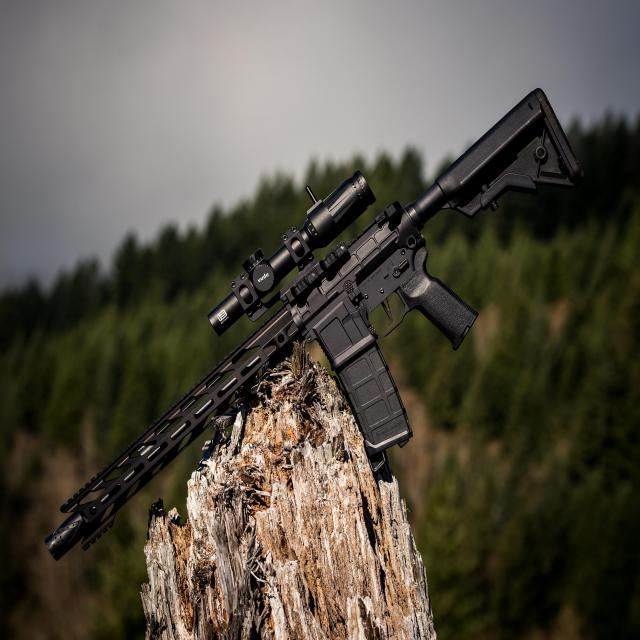weapon: (43, 87, 590, 562)
